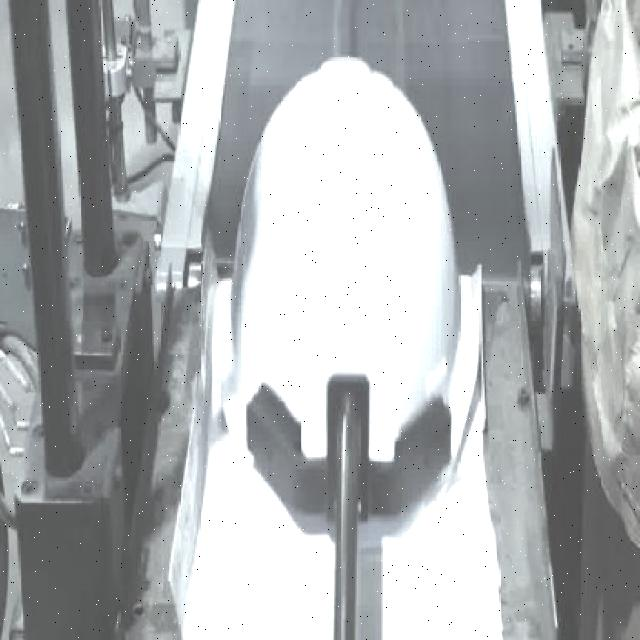Helmet: (212, 52, 480, 550)
